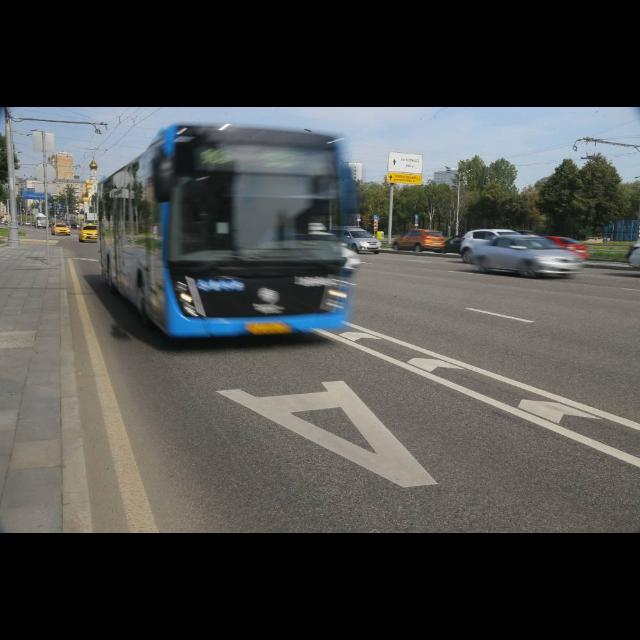road: (58, 236, 639, 533)
